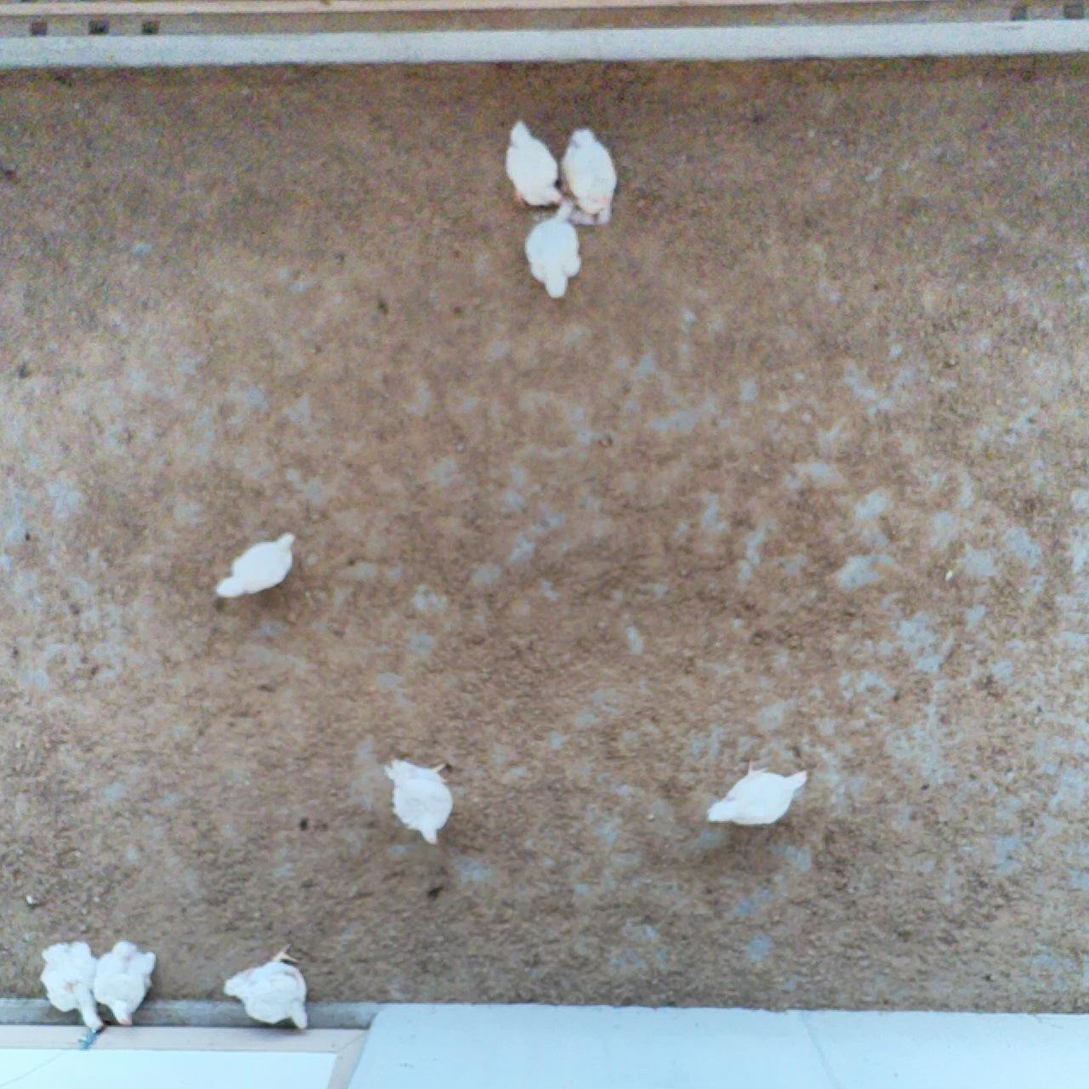chicken: (221, 945, 312, 1033), (380, 752, 458, 852), (701, 767, 815, 830), (37, 938, 105, 1035), (212, 527, 298, 601), (92, 937, 160, 1030), (503, 117, 566, 215), (559, 126, 622, 224), (522, 213, 583, 301)
